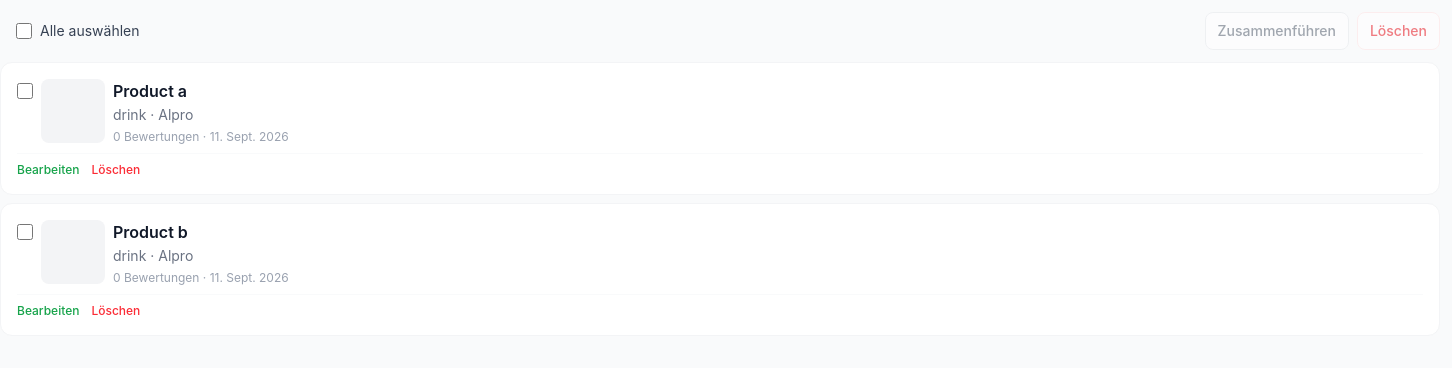
Scenario: AdminProductList › given two products are selected › enables the merge button
Click the checkbox named "Product a auswählen".
click(25, 91)  # box [17,83,33,99]
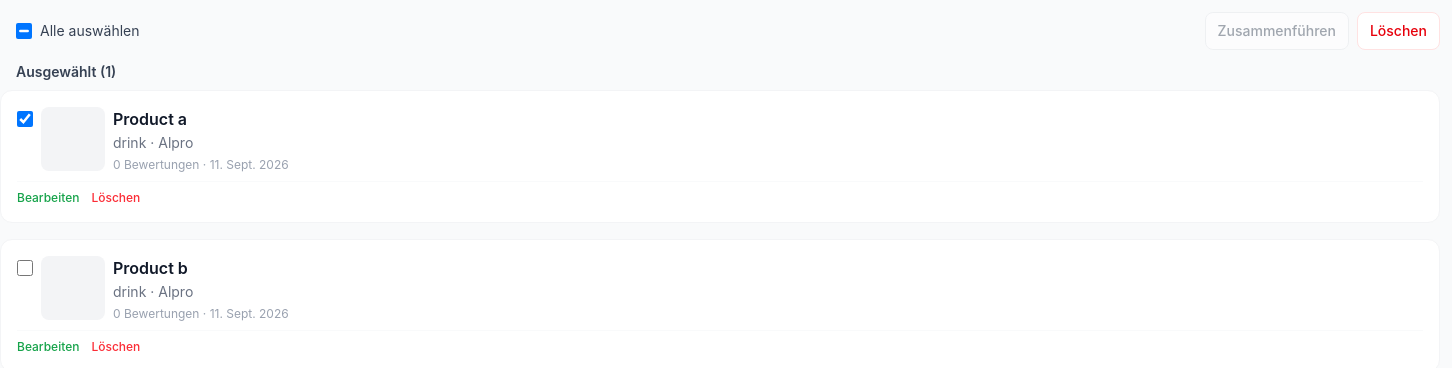
Click the checkbox named "Product b auswählen".
click(25, 268)  # box [17,260,33,276]
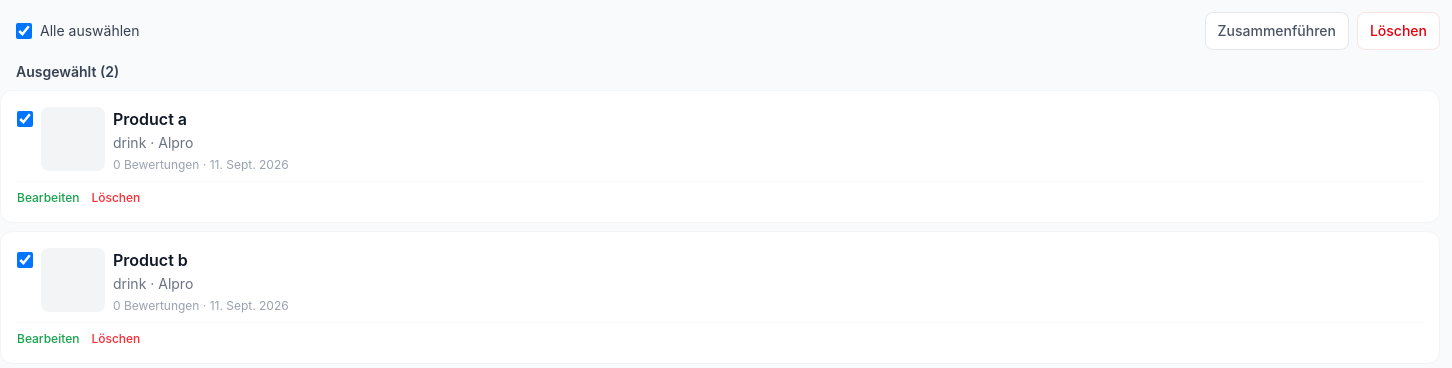
Now the button with aria-label "Produkte zusammenführen" is enabled, box [1205,12,1349,50]
